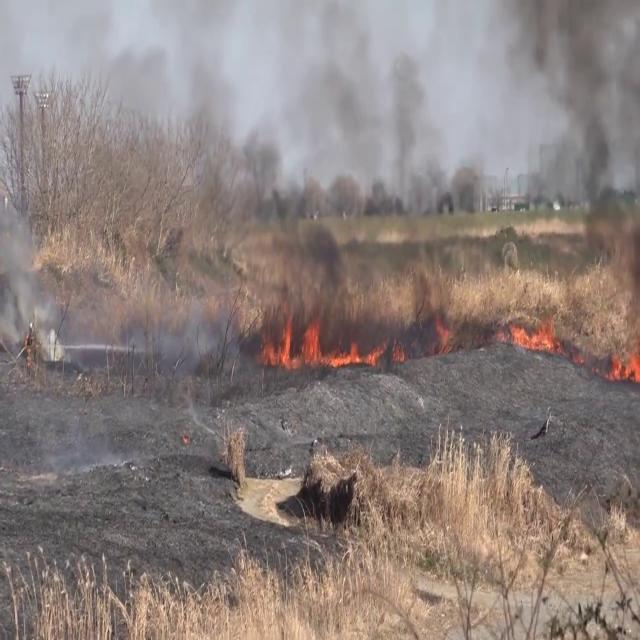Fire: (263, 310, 385, 374), (506, 312, 562, 356), (606, 336, 640, 388), (429, 312, 456, 358)
Smoke: (176, 0, 510, 282), (503, 0, 640, 304), (0, 172, 59, 362)
